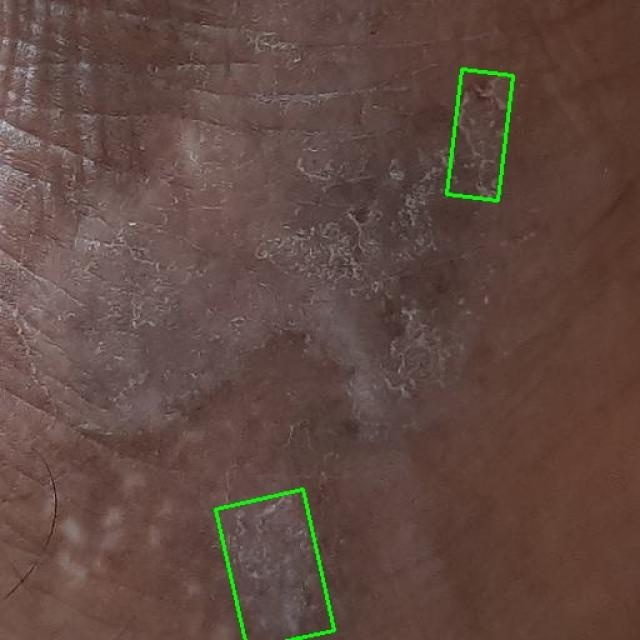Eczema: (216, 490, 334, 640), (447, 70, 513, 201)
